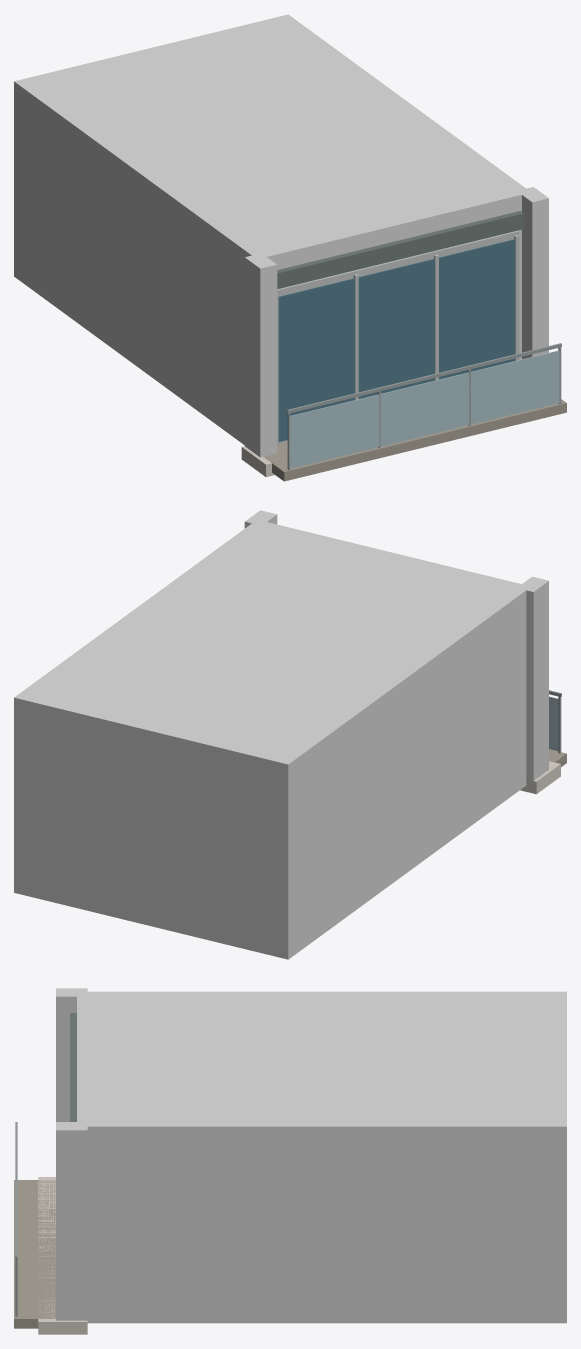
File: lau_kinh_lua_48.glb
3 views of the same model, one above another, from view 1: azimuth 30°, elevation 25°; view 2: azimuth 150°, elevation 25°; view 3: azimuth 270°, elevation 25° (orthographic).
Visible parts, largest first — view 1: lau_kinh_lua_48; view 2: lau_kinh_lua_48; view 3: lau_kinh_lua_48.
Part boxes in pixels (box(x1,y1,x2,y2)): lau_kinh_lua_48: box(14, 14, 566, 481); lau_kinh_lua_48: box(14, 510, 566, 959); lau_kinh_lua_48: box(14, 988, 566, 1334).
Bounding box in the file's own units: 4.9 × 3.2 × 7.9.
